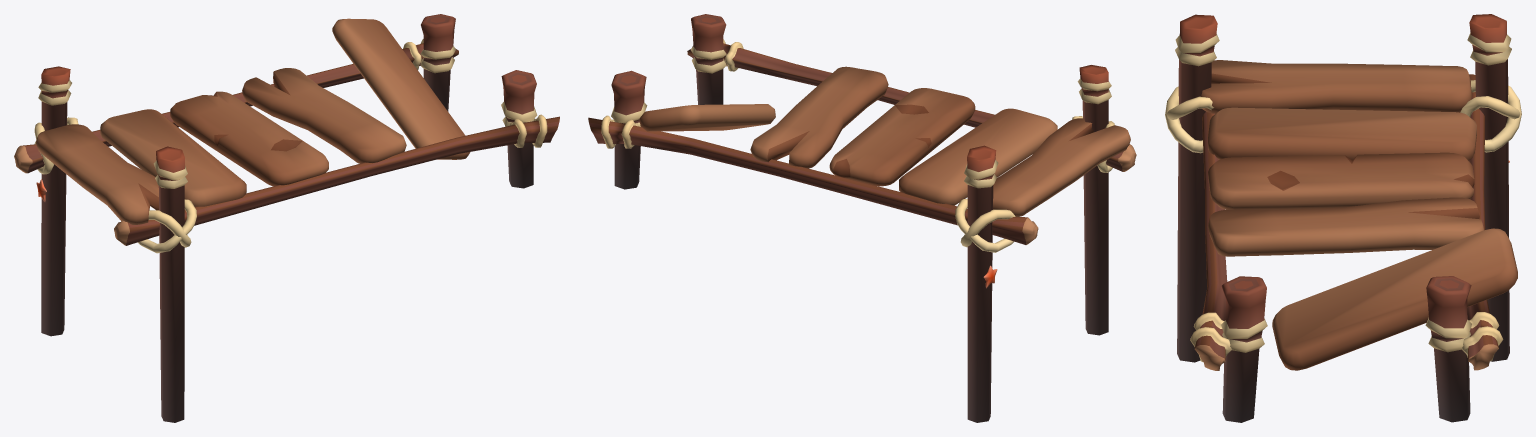
The model's file is Wood_Dock_01.fbx.
3 renders of one model, left to right at view 1: azimuth 30°, elevation 25°; view 2: azimuth 150°, elevation 25°; view 3: azimuth 270°, elevation 25°, orthographic. The views are drawn at different scales.
Parts seen in each view (by area): view 1: Wood_Dock_01; view 2: Wood_Dock_01; view 3: Wood_Dock_01.
Part boxes in pixels (x1=…): Wood_Dock_01: x1=14, y1=14, x2=559, y2=422; Wood_Dock_01: x1=588, y1=14, x2=1136, y2=422; Wood_Dock_01: x1=1165, y1=14, x2=1521, y2=422.
Bounding box in the file's own units: 578 × 327 × 316.
